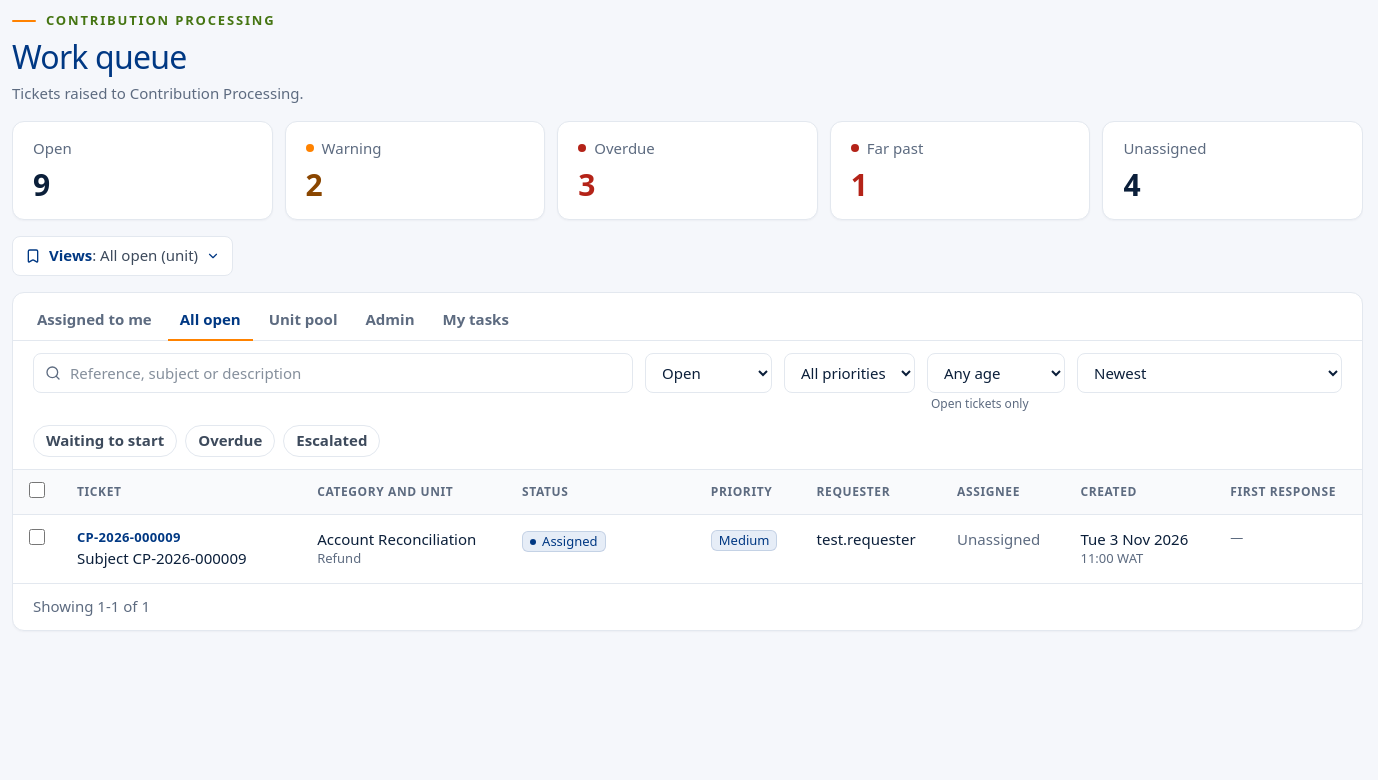
Scenario: Work queue › a Department Admin also gets the Admin tab: the whole department, with the unit filter
Click the tab "Admin" at coordinates (390, 321), box [354,301,426,341]
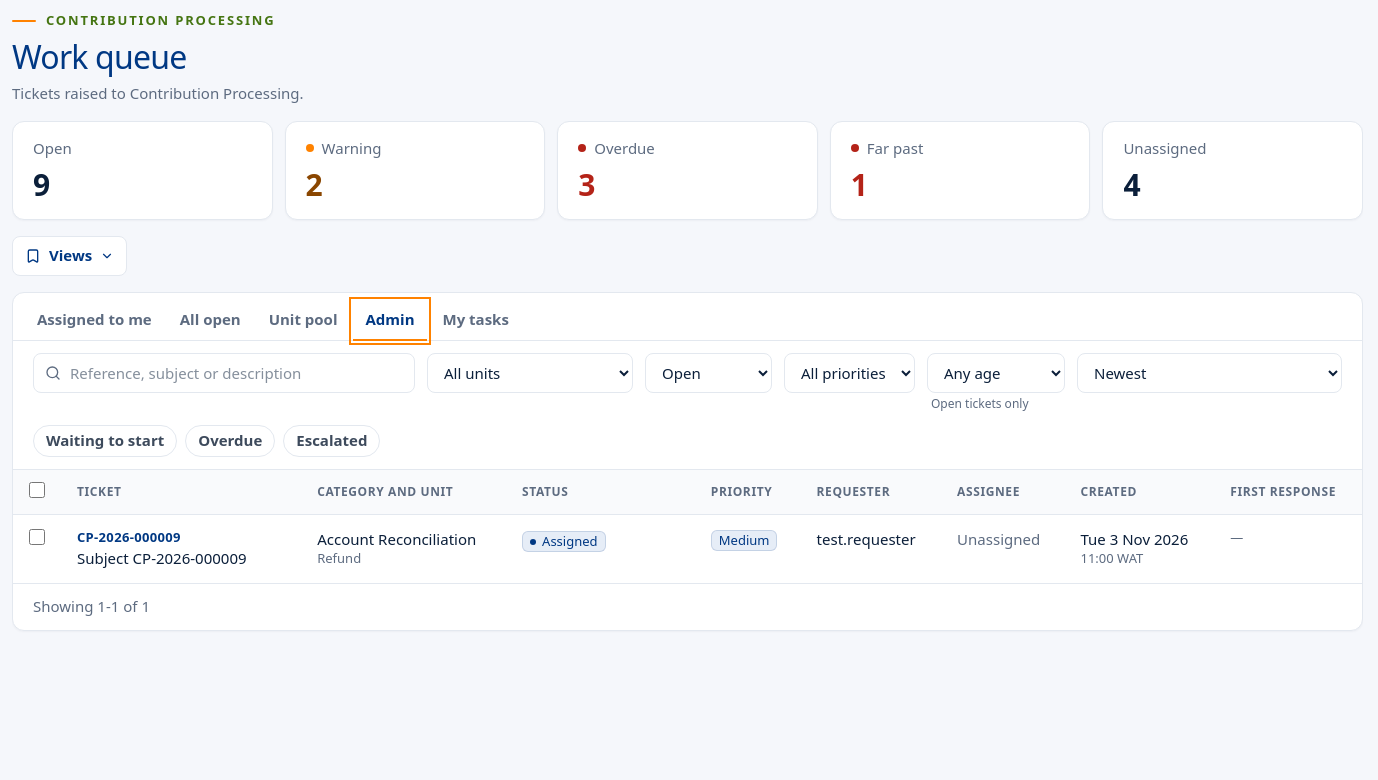
Check: the text "Tickets raised to Contribution Processing." is shown, box [12,83,304,105]
Check: the dropdown named "Unit" shows "All units", box [427,353,633,393]
